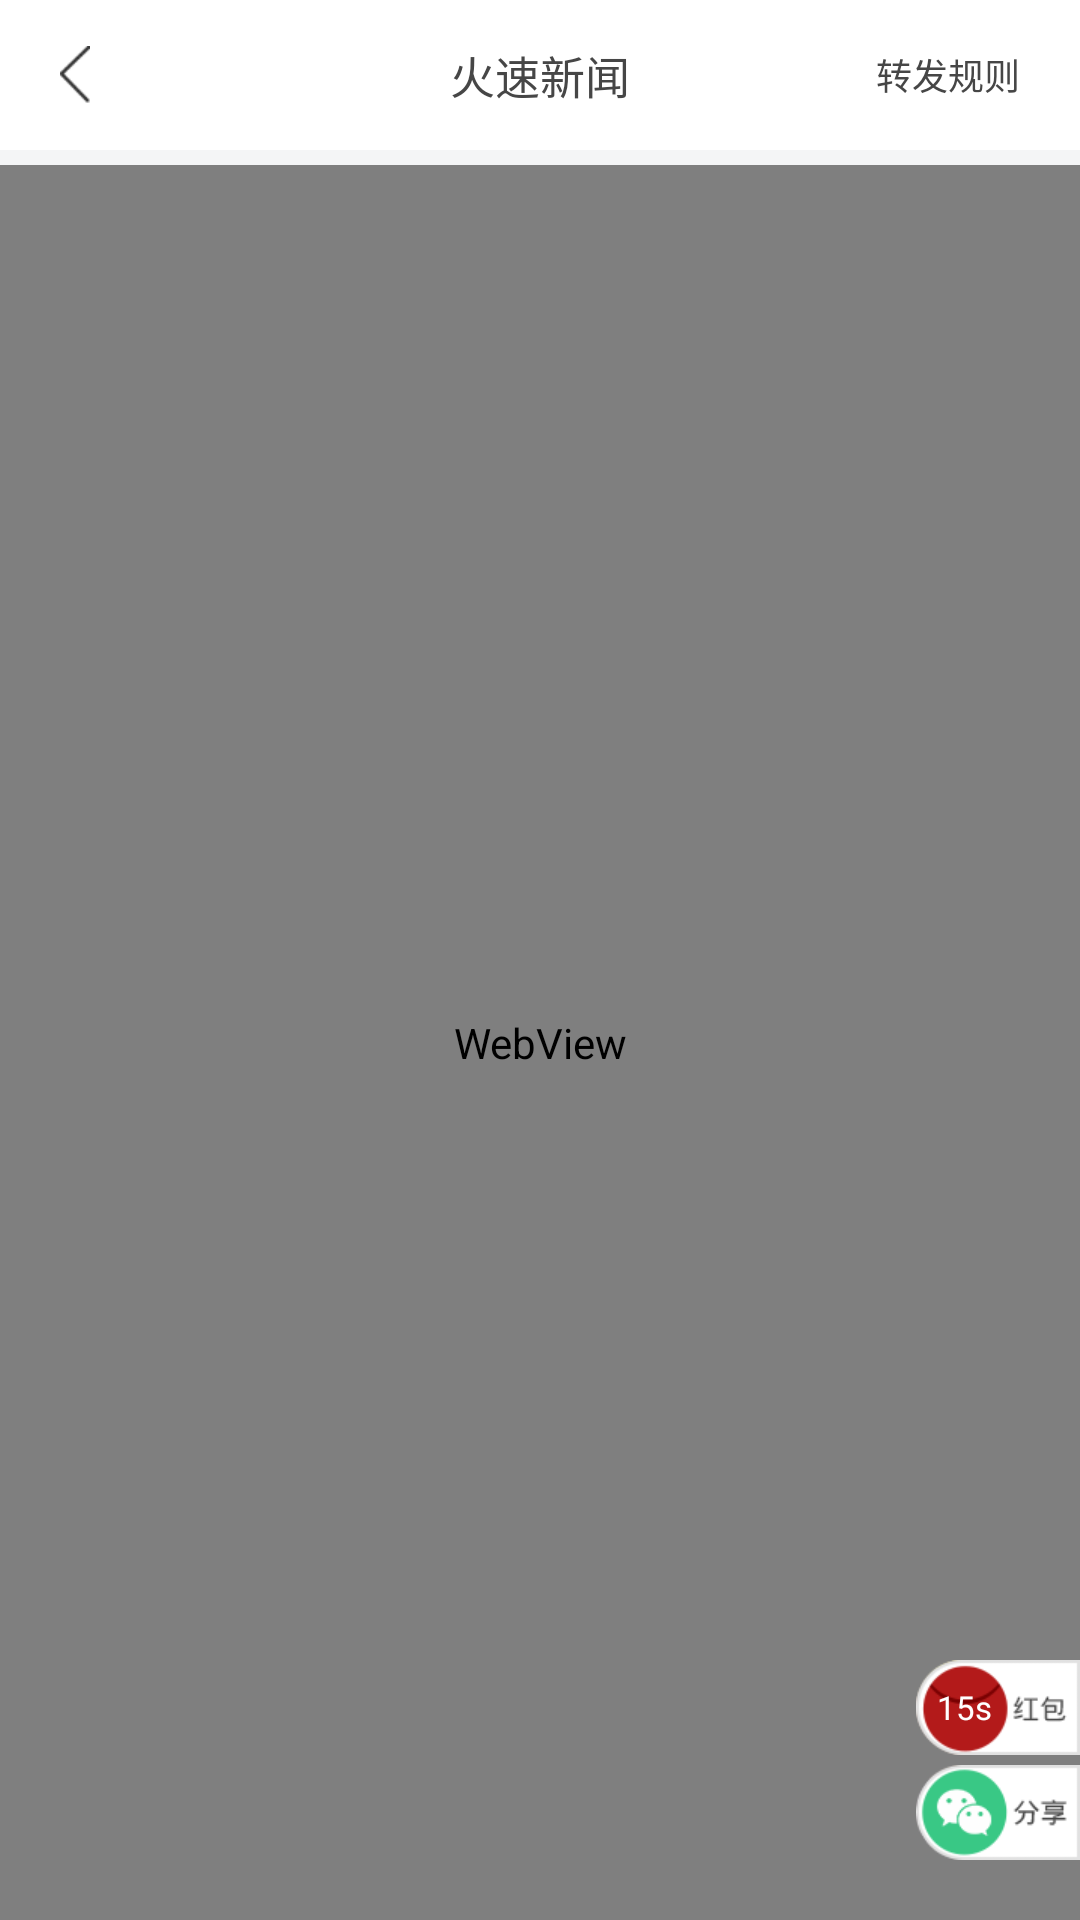

Icon bounding boxes for this 1080x1920 phone screenshot, format (x1, y1, x2, y2):
back: (60, 46, 90, 103)
